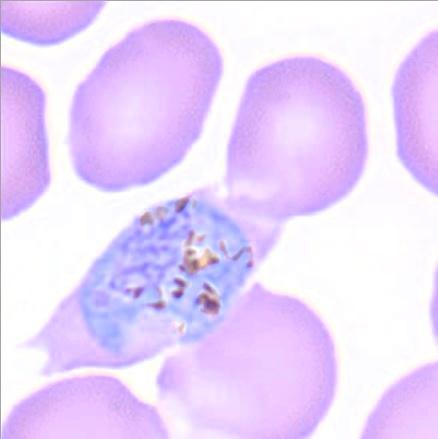Infected: (152, 66, 415, 255)
Uninfected: (101, 0, 282, 153), (216, 246, 369, 417), (71, 217, 211, 383)
